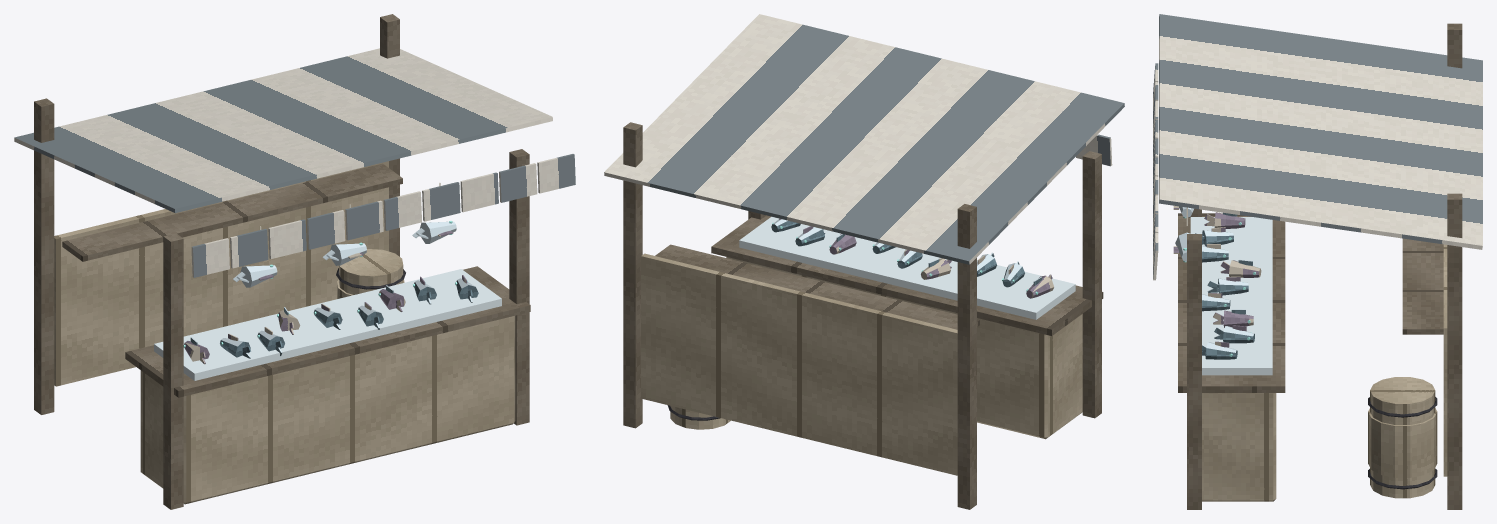
The model's file is market_stall_fish.obj.
3 views of the same model, side by side, from view 1: azimuth 30°, elevation 25°; view 2: azimuth 150°, elevation 25°; view 3: azimuth 270°, elevation 25° (orthographic). The views are drawn at different scales.
Parts seen in each view (by area): view 1: market_stall_fish; view 2: market_stall_fish; view 3: market_stall_fish.
Part boxes in pixels (box(x1,y1,x2,y2)): market_stall_fish: box(14, 14, 575, 509); market_stall_fish: box(604, 14, 1124, 509); market_stall_fish: box(1153, 14, 1482, 509).
Bounding box in the file's own units: 3.11 × 2.34 × 2.22.
